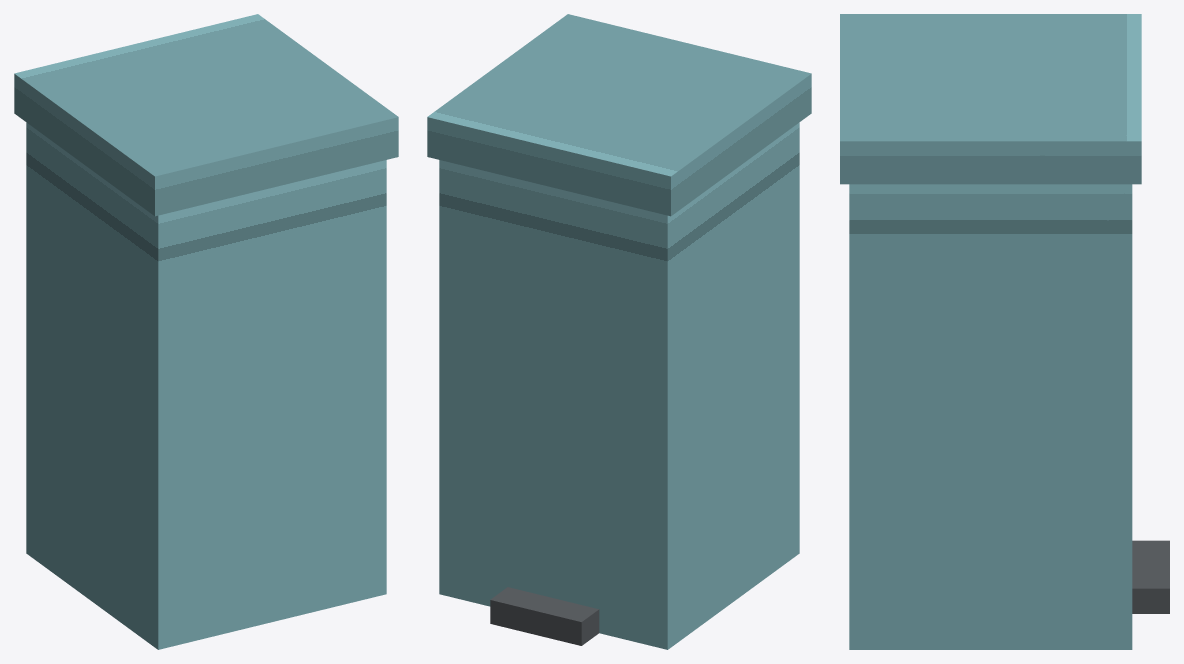
File: f_trashcan.glb
3 views of the same model, side by side, from view 1: azimuth 30°, elevation 25°; view 2: azimuth 150°, elevation 25°; view 3: azimuth 270°, elevation 25° (orthographic). The views are drawn at different scales.
Parts seen in each view (by area): view 1: block_bin, block_lid; view 2: block_bin, block_lid, block_pedal; view 3: block_bin, block_lid, block_pedal.
Boxes of the visible parts, x1=… form: block_bin: x1=26, y1=122, x2=386, y2=649; block_lid: x1=14, y1=14, x2=398, y2=216; block_bin: x1=439, y1=122, x2=799, y2=649; block_lid: x1=427, y1=14, x2=811, y2=216; block_pedal: x1=490, y1=587, x2=599, y2=645; block_bin: x1=849, y1=184, x2=1132, y2=649; block_lid: x1=840, y1=14, x2=1141, y2=184; block_pedal: x1=1132, y1=540, x2=1169, y2=613.
Size of the model in its own units: 0.32 by 0.6 by 0.35.
2 materials, 2 textured.
